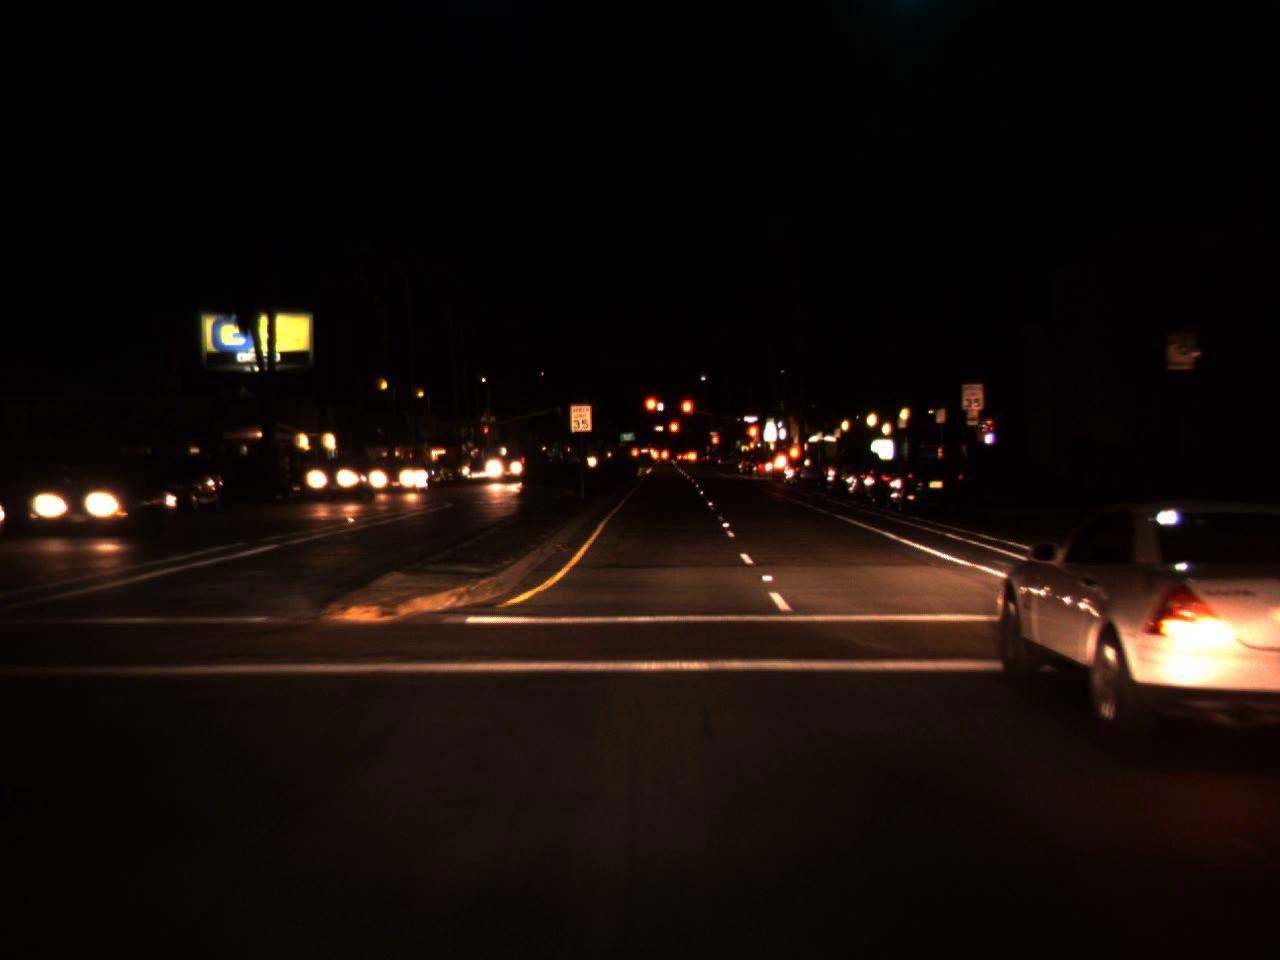stop: (643, 395, 661, 427), (679, 397, 695, 429), (667, 419, 680, 446), (710, 434, 720, 455), (748, 426, 757, 447), (483, 426, 489, 439)
